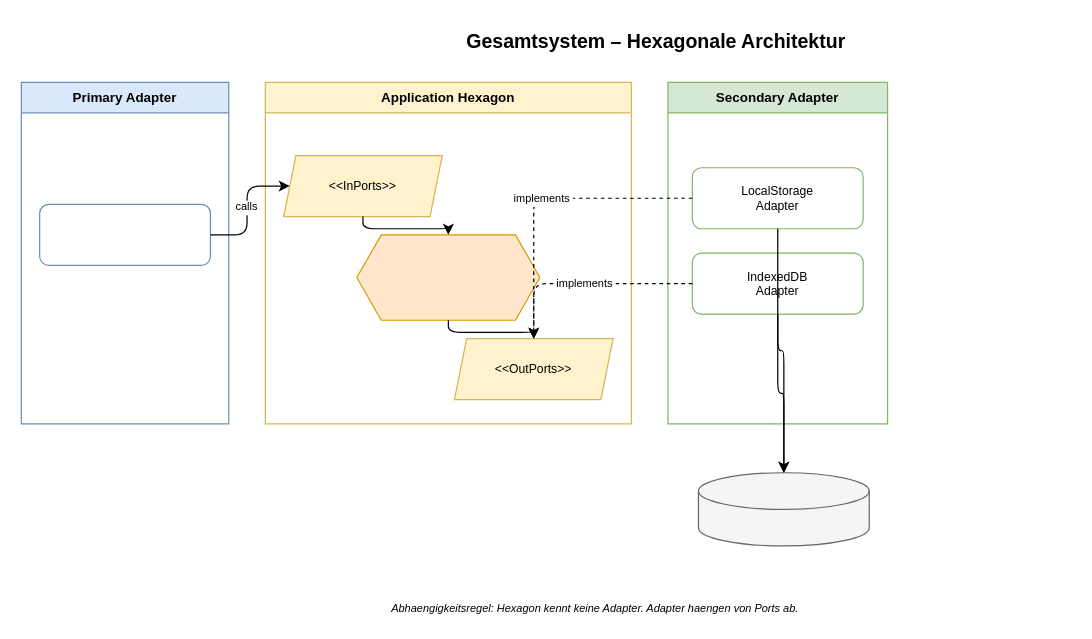
The diagram is 1092 pixels wide and 639 high, and some of its shapes have lost their labels. Here are the shapes that lost their labels. From the top down, the centre of each, then its label:
At [124,234]: "UI Components Pages / Dialogs".
At [448,277]: "UseCases + Domain Model".
At [783,509]: "Browser APIs (LocalStorage / IndexedDB)".
